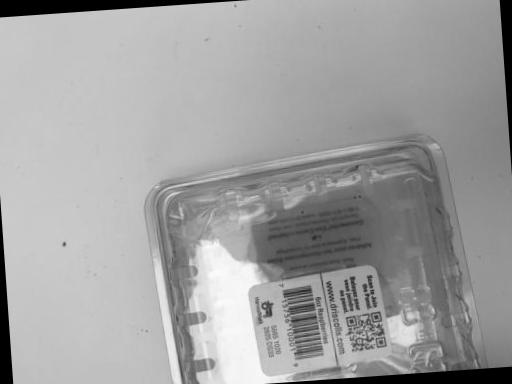plastic: (115, 104, 512, 384)
